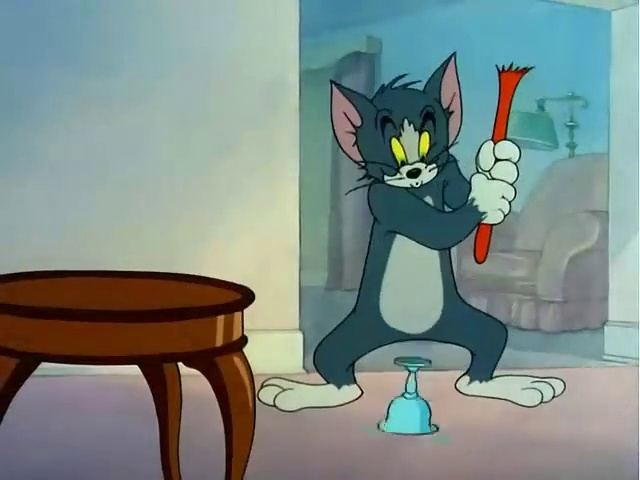tom: (234, 18, 586, 412)
